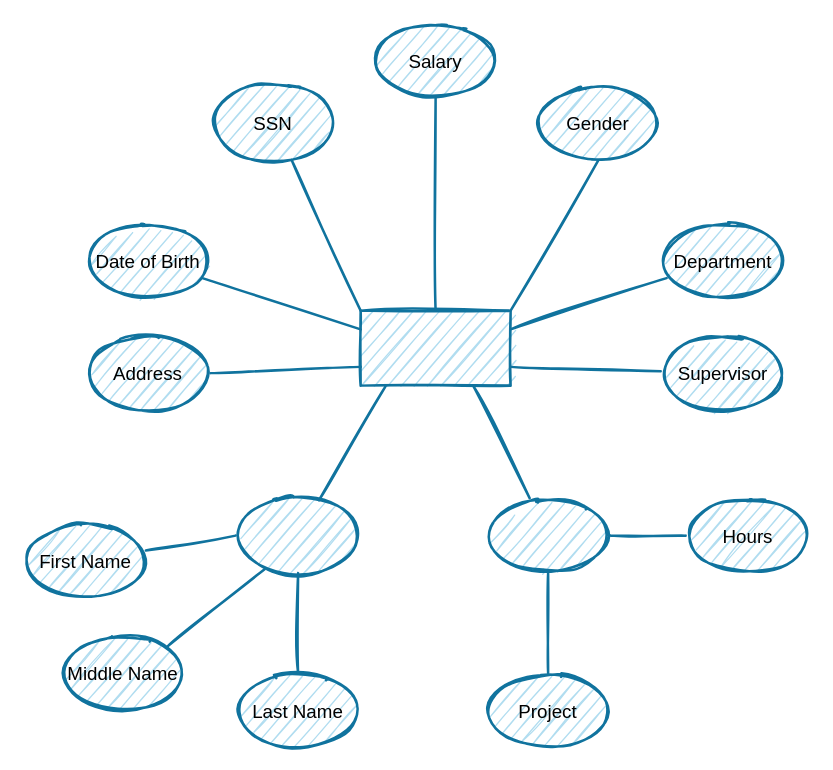
This 833x770 diagram has some shape labels left out. Here are the shapes that lost their labels. From the top down, the centre of each, then its label:
(435,347): Employee
(297,535): Name
(547,535): Working on
